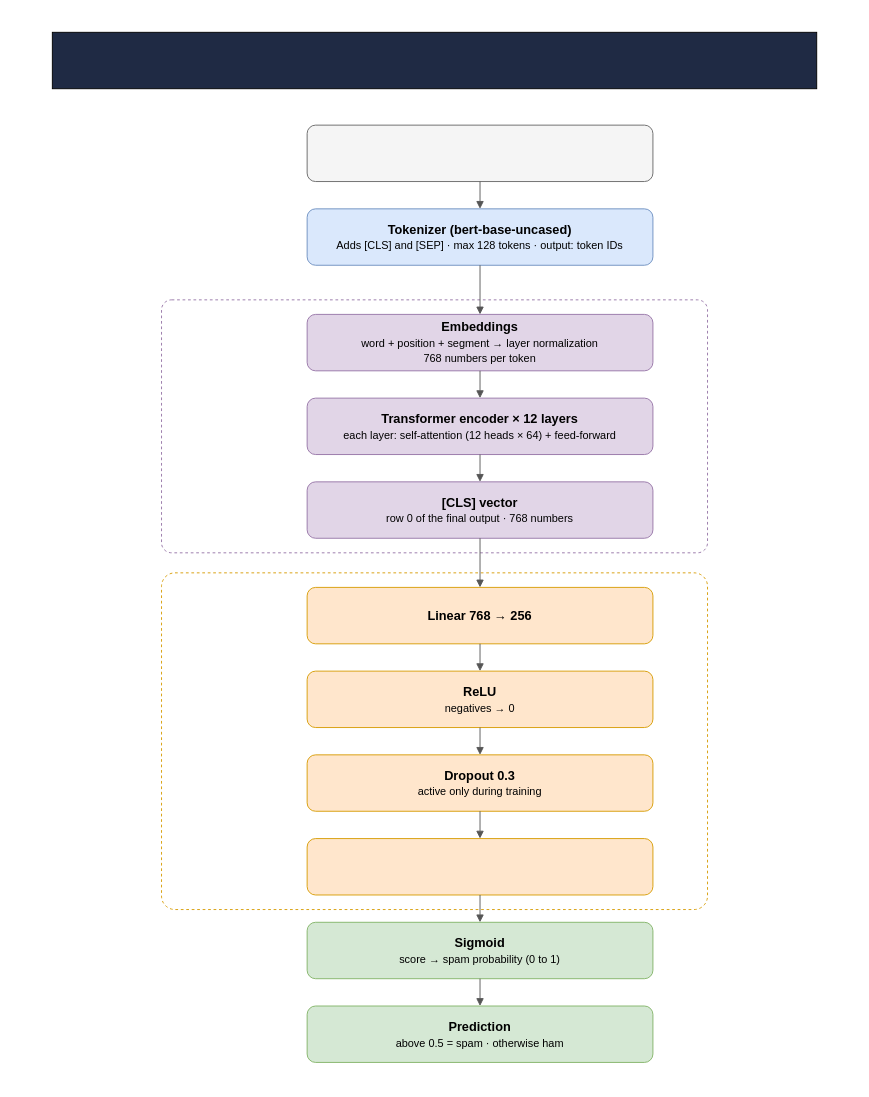
This 869x1097 diagram has some shape labels left out. Each missing label, with the box of its shape:
BERT (pre-trained by Google, fine-tuned): (161, 299, 708, 553)
Classifier (trained from scratch): (161, 572, 708, 910)
Linear 256 → 1 output: one score (logit): (306, 838, 653, 895)
SMS message "This is your last chance to WIN the CASH. Please click the link.": (306, 124, 653, 182)
SPAM Classification using BERT: (51, 31, 817, 89)
